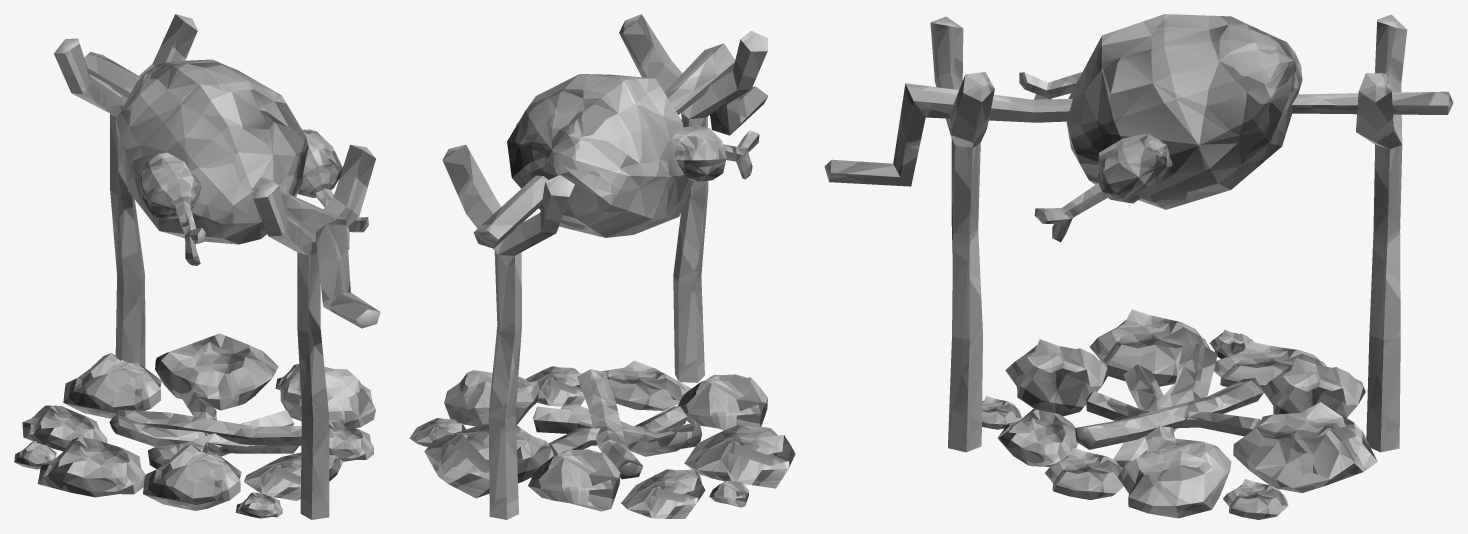
File: Fireplace_02.fbx
The picture shows the model from 3 angles, left to right: view 1: azimuth 30°, elevation 25°; view 2: azimuth 150°, elevation 25°; view 3: azimuth 270°, elevation 25°; orthographic projection. The views are drawn at different scales.
Parts seen in each view (by area): view 1: Stand, Grilled_Dodo, Turnrod; view 2: Stand, Grilled_Dodo, Turnrod; view 3: Stand, Grilled_Dodo, Turnrod.
Part boxes in pixels (x1=…): Stand: x1=14, y1=14, x2=375, y2=519; Grilled_Dodo: x1=115, y1=59, x2=368, y2=265; Turnrod: x1=84, y1=52, x2=380, y2=328; Stand: x1=409, y1=14, x2=795, y2=519; Grilled_Dodo: x1=507, y1=74, x2=759, y2=237; Turnrod: x1=473, y1=43, x2=767, y2=248; Stand: x1=930, y1=14, x2=1407, y2=519; Grilled_Dodo: x1=1019, y1=14, x2=1302, y2=242; Turnrod: x1=824, y1=83, x2=1453, y2=186.
Bounding box in the file's own units: 426 × 455 × 615.
1 material, 1 textured.
